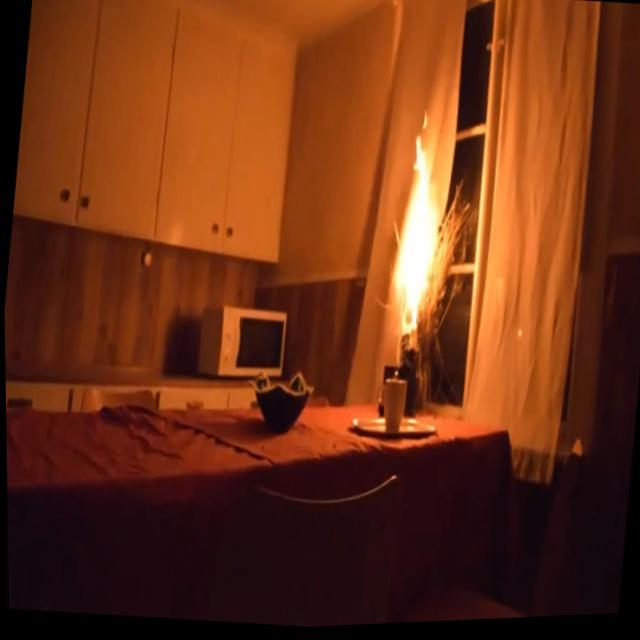fire: (373, 123, 453, 345)
